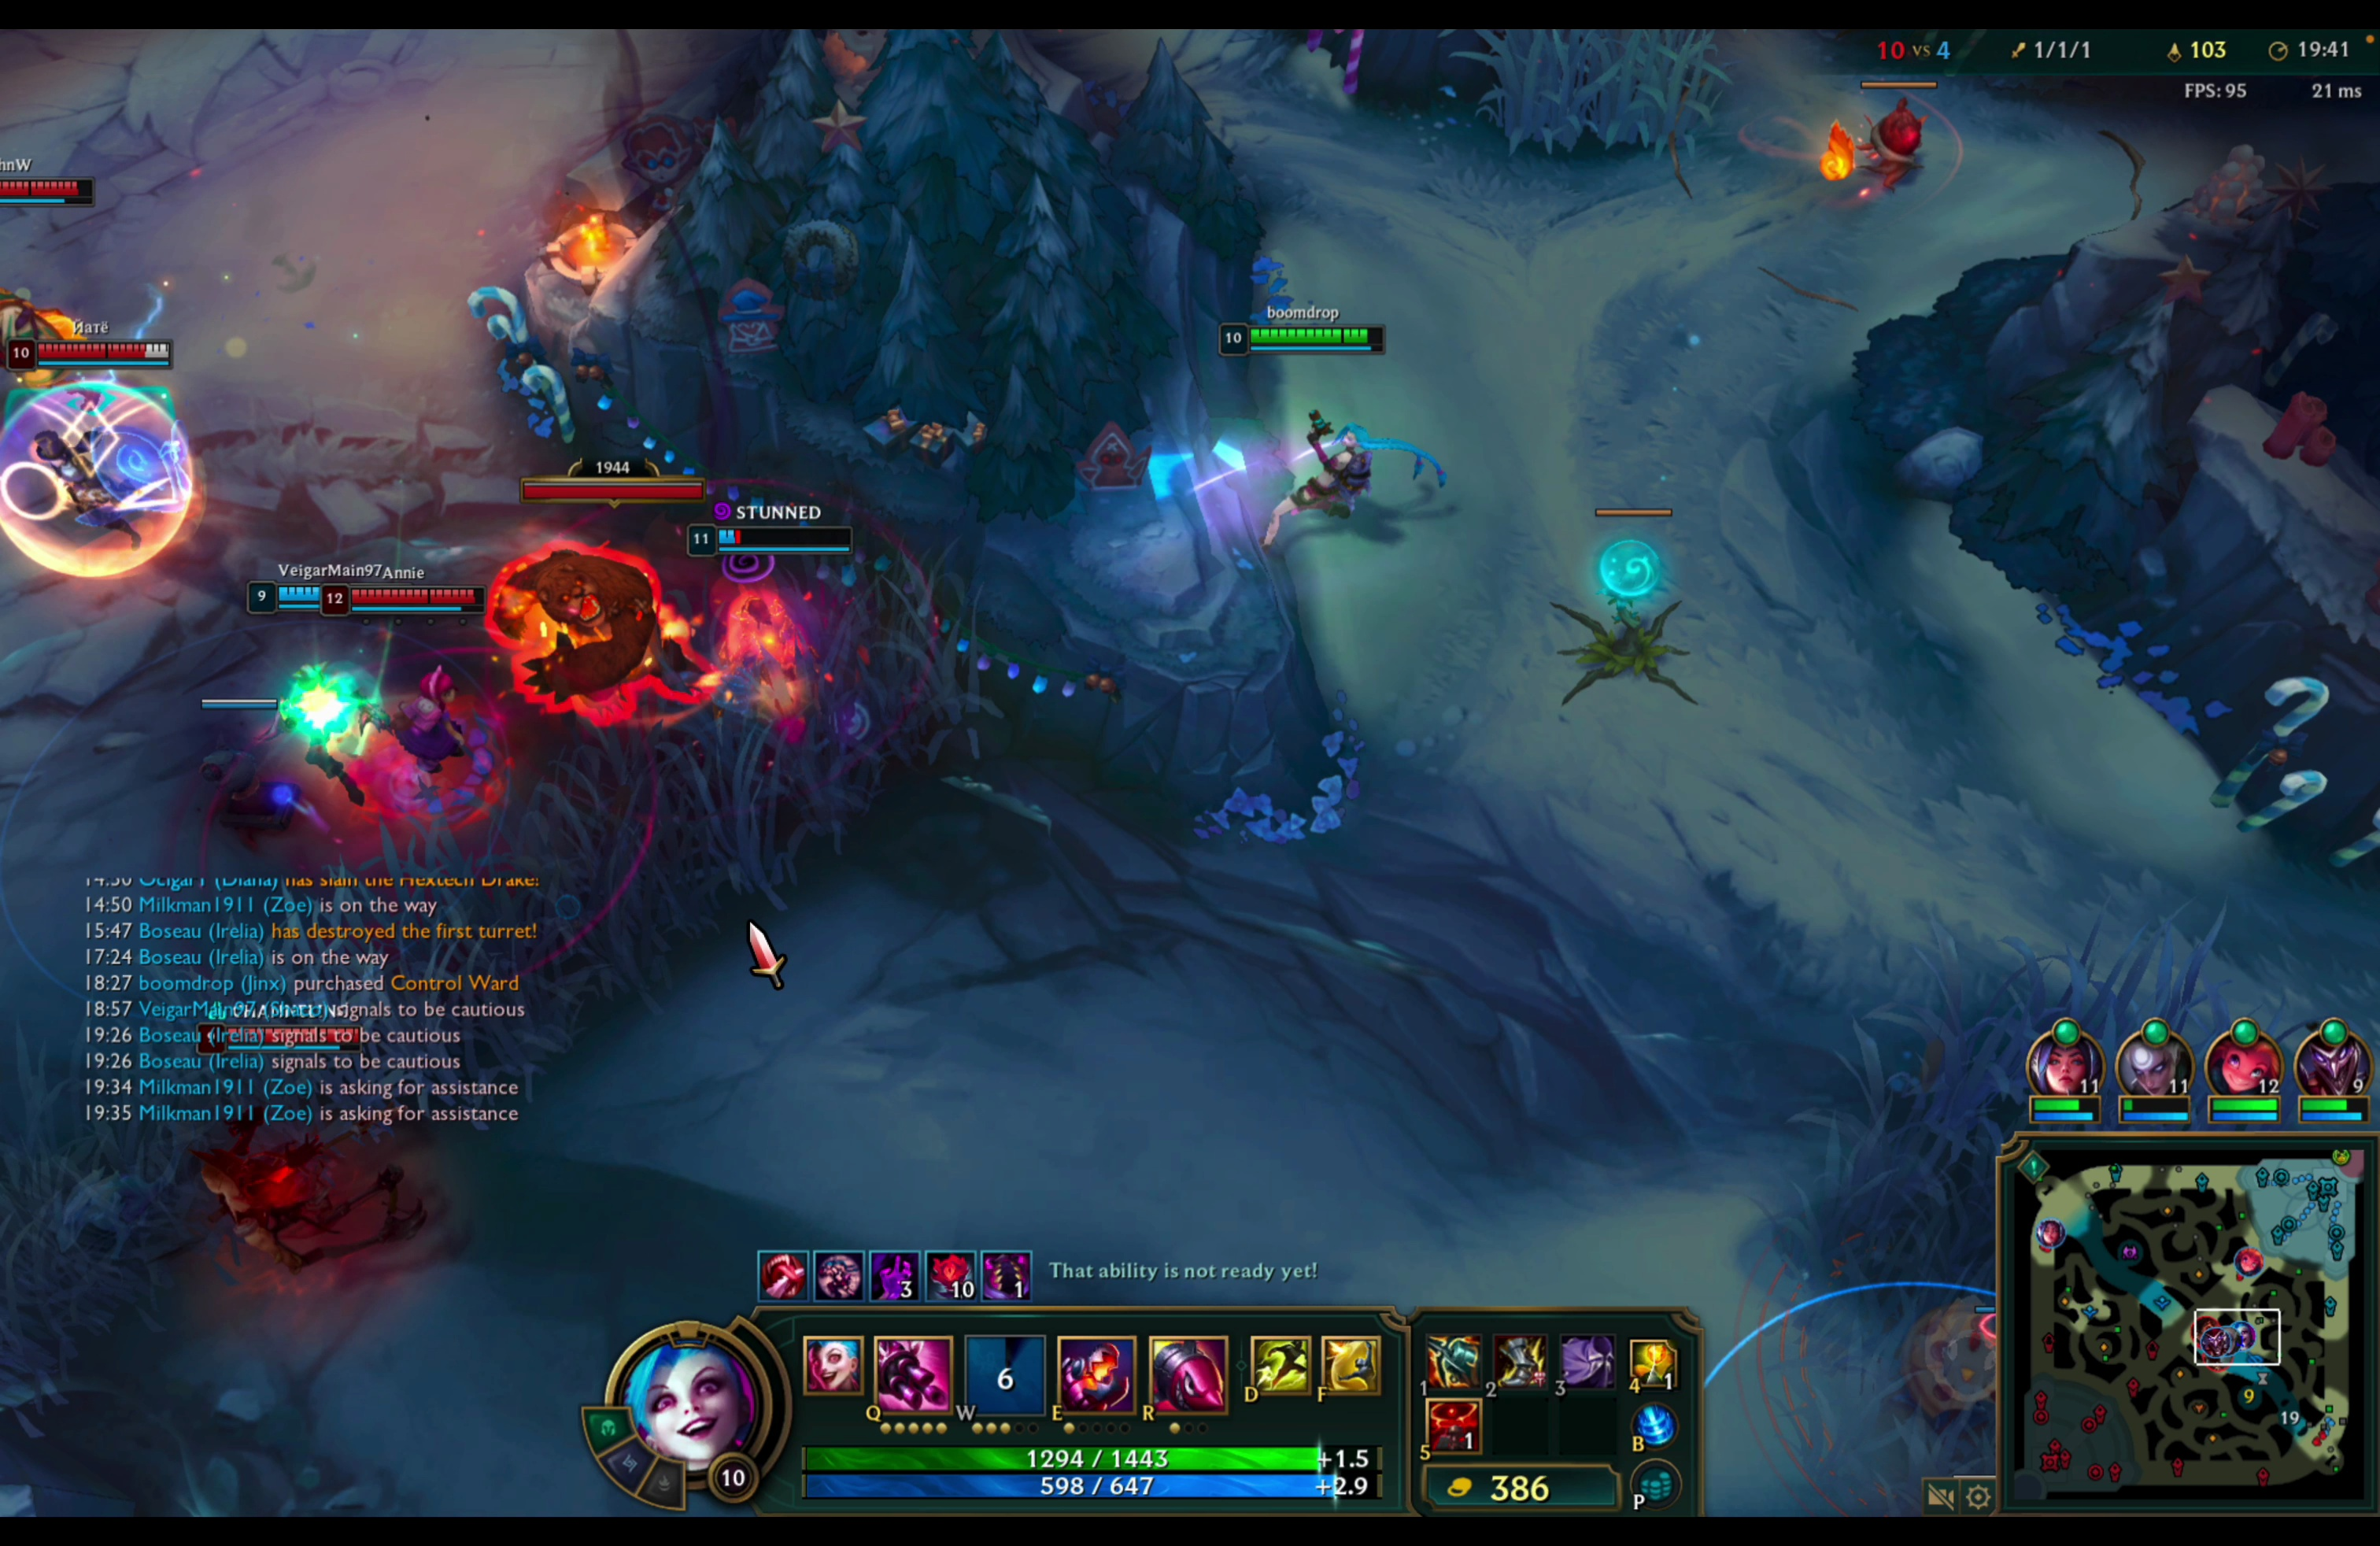JINX_W_PROJECTILE: (1126, 295, 1466, 586)
